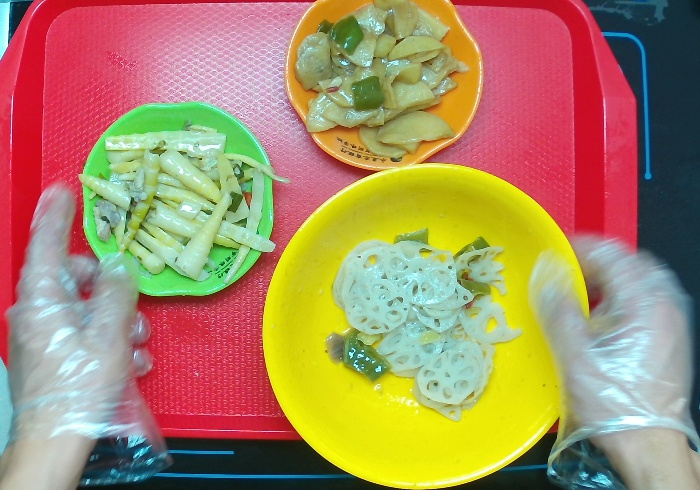YKMZ-Huang_Se_Tang_Wan: (261, 162, 591, 490)
YKMZ-Ju_Se_Ao_Bian_Wan: (284, 1, 486, 174)
YKMZ-Lv_Se_Ao_Bian_Wan: (79, 101, 275, 300)
